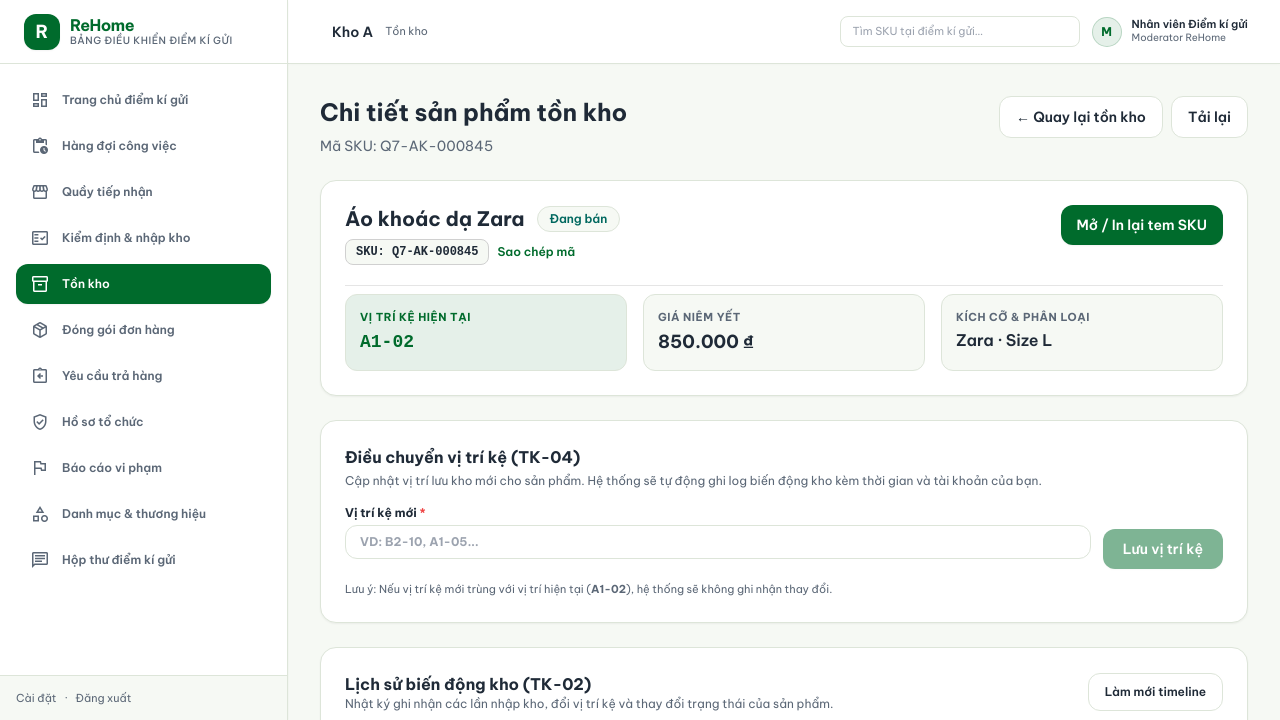
Test: ConsignmentDetailPage component behaviors › Task 6: WarehouseInventoryPage & InventoryDetailPage behaviors › InventoryDetailPage: renders details, movements timeline, and handles shelf relocation
The width and height of the screenshot is (1280, 720).
Expected: the heading "Áo khoác dạ Zara" is shown, [345,205,524,233]
Expected: the text "SKU: Q7-AK-000845" is shown, [345,239,489,265]
Note: Submit new shelf
Type "C1-05" into the field labelled "Vị trí kệ mới *".
click(718, 542); type("C1-05")  # box [345,524,1091,558]
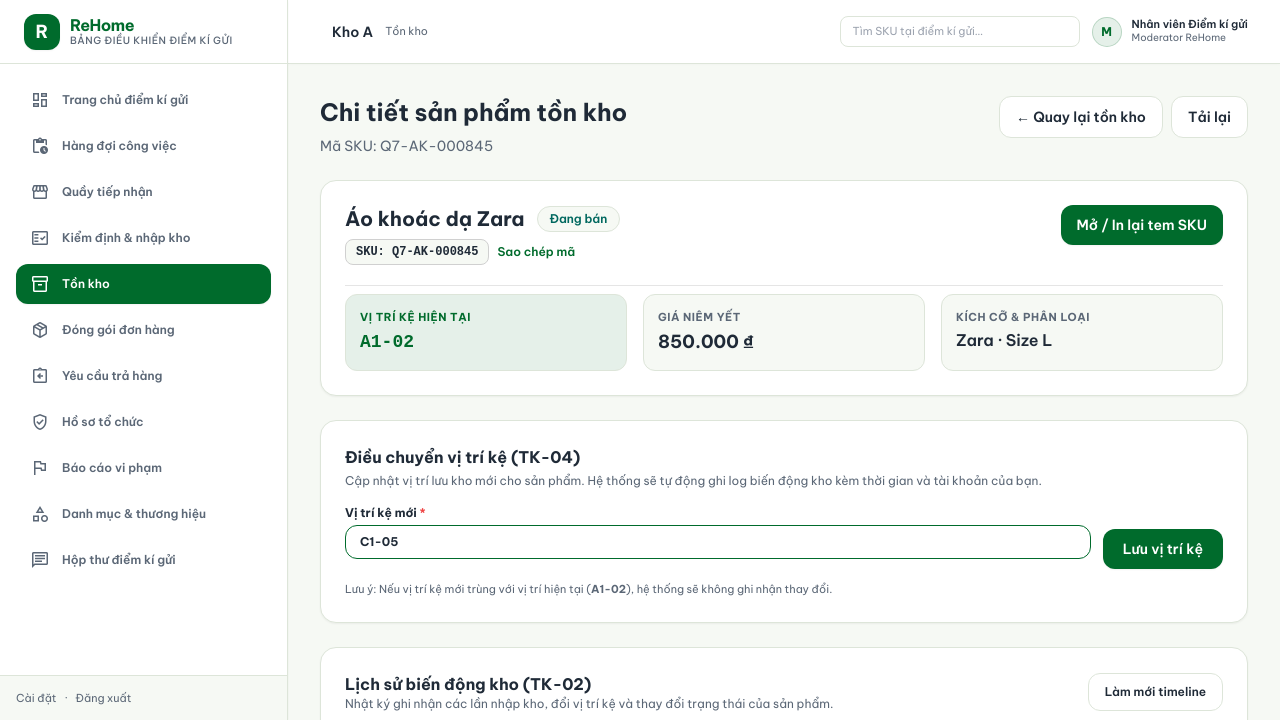
Expected: the button "Lưu vị trí kệ" is enabled
Click the button "Lưu vị trí kệ".
click(1163, 548)  # box [1103,528,1223,568]
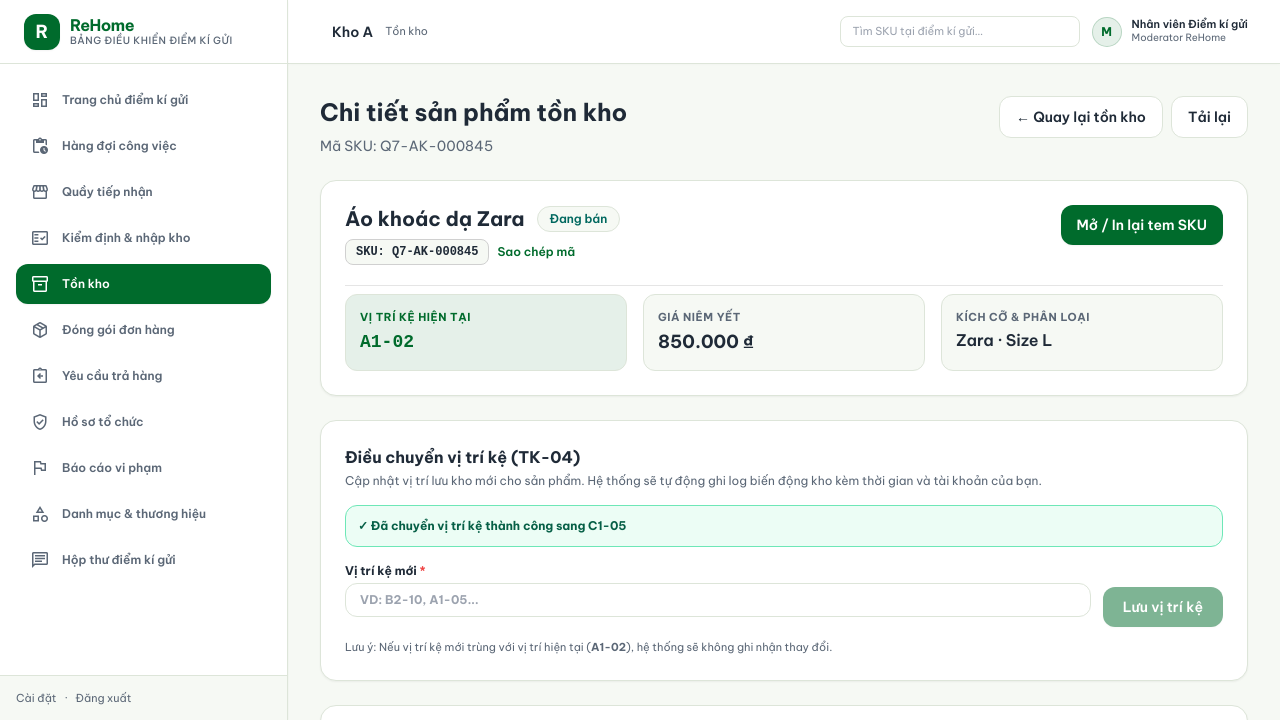
Expected: the text "✓ Đã chuyển vị trí kệ thành công sang C1-05" is shown, [345,504,1223,546]
